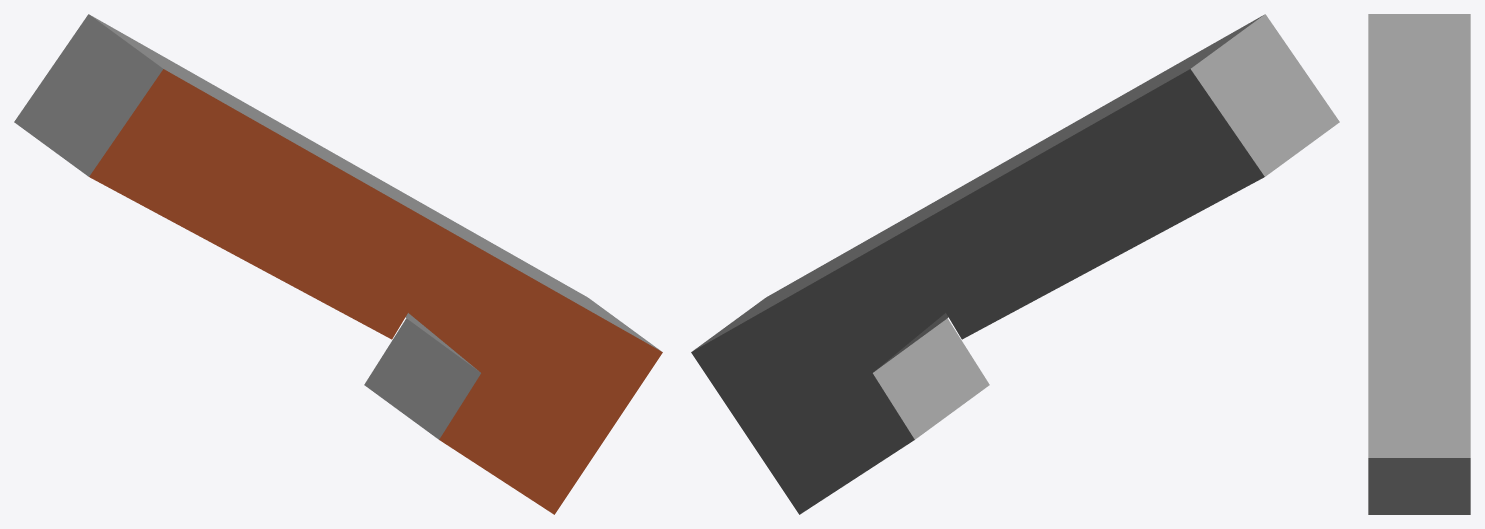
File: construction_3862_assumed_A_Casa_h6m.obj
3 renders of one model, left to right at view 1: azimuth 30°, elevation 25°; view 2: azimuth 150°, elevation 25°; view 3: azimuth 270°, elevation 25°, orthographic. The views are drawn at different scales.
Parts seen in each view (by area): view 1: construction_3862_assumed_A_Casa; view 2: construction_3862_assumed_A_Casa; view 3: construction_3862_assumed_A_Casa.
Part boxes in pixels (<box>): construction_3862_assumed_A_Casa: <box>14,14,662,514</box>; construction_3862_assumed_A_Casa: <box>691,14,1339,514</box>; construction_3862_assumed_A_Casa: <box>1368,14,1470,514</box>.
Size of the model in its own units: 26.52 by 23.91 by 6.
